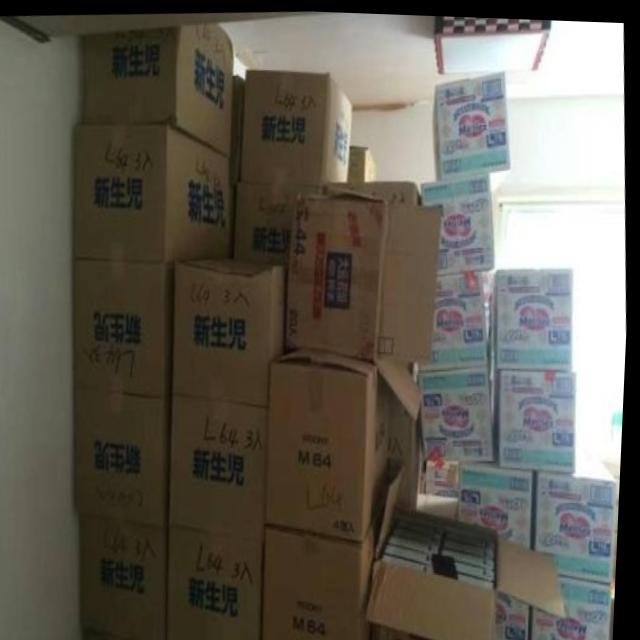box: (288, 183, 439, 420), (369, 463, 571, 640), (270, 348, 398, 535), (77, 122, 234, 263), (79, 20, 235, 154), (177, 253, 290, 406), (176, 396, 273, 543), (76, 260, 178, 398), (268, 516, 380, 640), (78, 387, 177, 526), (238, 67, 354, 182), (488, 264, 576, 401), (85, 508, 173, 640), (171, 526, 270, 640), (535, 463, 621, 579), (433, 68, 515, 180), (495, 363, 581, 467), (422, 358, 498, 459), (423, 172, 499, 271), (234, 182, 324, 259), (423, 268, 491, 368), (461, 457, 537, 542), (537, 572, 618, 640), (324, 177, 422, 201), (500, 587, 534, 640), (233, 72, 245, 185), (350, 144, 378, 181)
